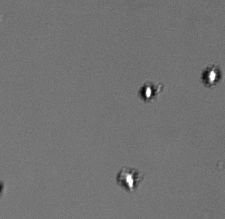Living Cell: (117, 168, 142, 191), (201, 64, 221, 87), (140, 83, 156, 100)
